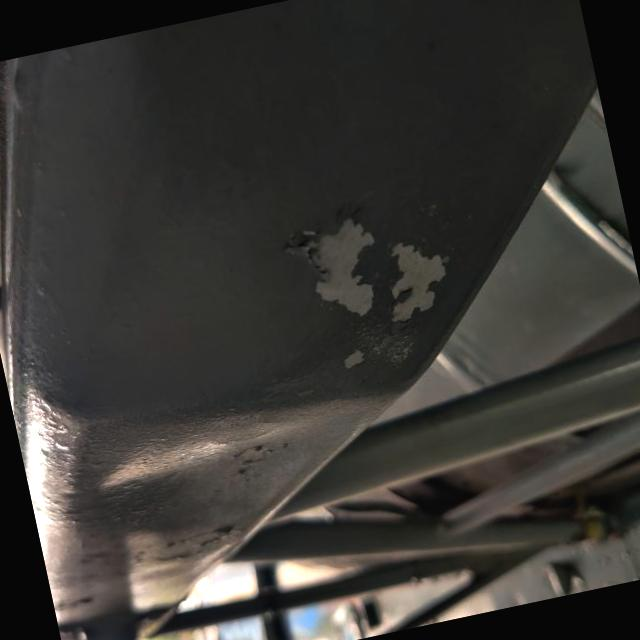paint-off: (255, 168, 488, 393)
